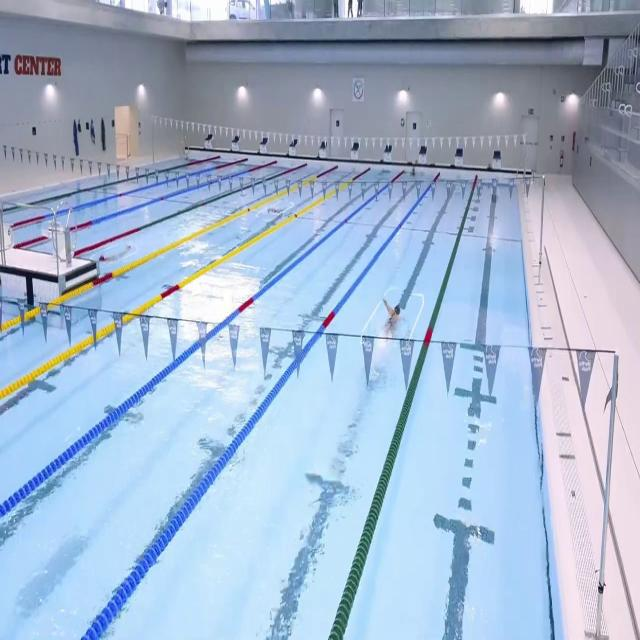Swimming: (382, 296, 410, 345), (98, 244, 133, 265), (265, 202, 292, 220)
